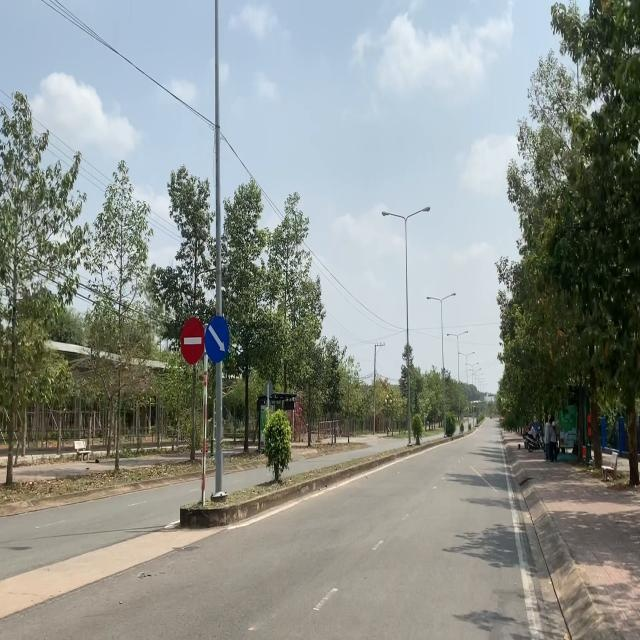bien_cam: (205, 314, 230, 364), (180, 317, 205, 365)
